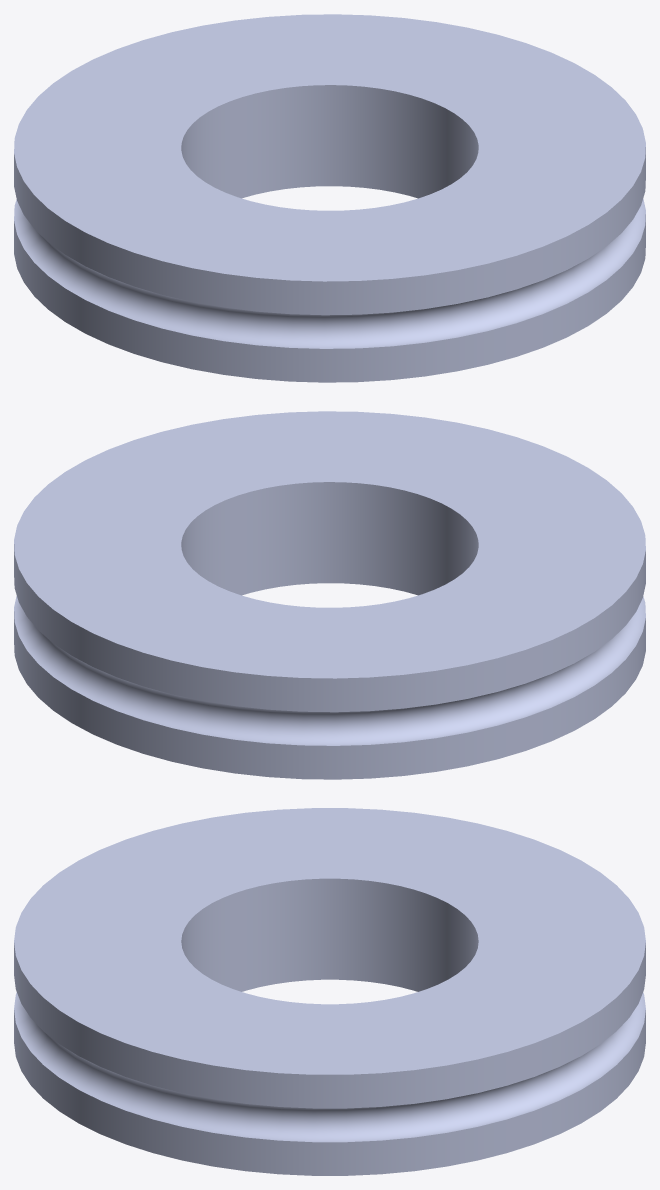
Rendered from FlexionTendonPulley.obj.
3 views of the same model, one above another, from view 1: azimuth 30°, elevation 25°; view 2: azimuth 150°, elevation 25°; view 3: azimuth 270°, elevation 25° (orthographic).
Visible parts, largest first — view 1: mesh1, mesh2, mesh4, mesh0, mesh5; view 2: mesh1, mesh2, mesh4, mesh0, mesh5; view 3: mesh1, mesh2, mesh0, mesh4, mesh5.
Part boxes in pixels (box(x1,y1,x2,y2)): mesh1: box(14, 14, 645, 281); mesh2: box(181, 85, 478, 198); mesh4: box(14, 214, 645, 382); mesh0: box(14, 147, 645, 315); mesh5: box(14, 199, 645, 348); mesh1: box(14, 411, 645, 678); mesh2: box(181, 482, 478, 595); mesh4: box(14, 611, 645, 779); mesh0: box(14, 544, 645, 712); mesh5: box(14, 596, 645, 745); mesh1: box(14, 808, 645, 1074); mesh2: box(181, 878, 478, 991); mesh0: box(14, 943, 645, 1108); mesh4: box(14, 1010, 645, 1175); mesh5: box(14, 992, 645, 1142).
Size of the model in its own units: 0.017 by 0.003 by 0.017.
